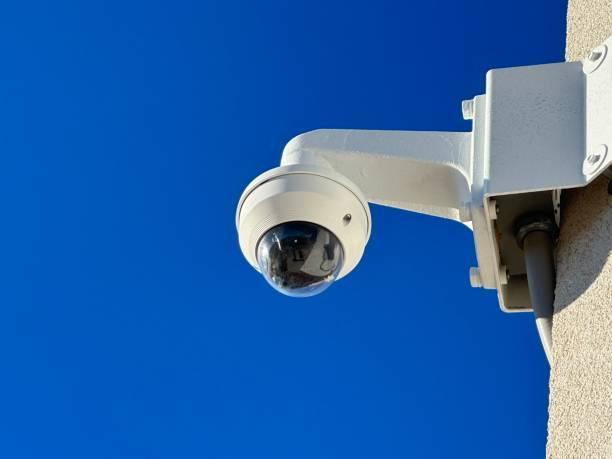camera: (198, 116, 423, 309)
